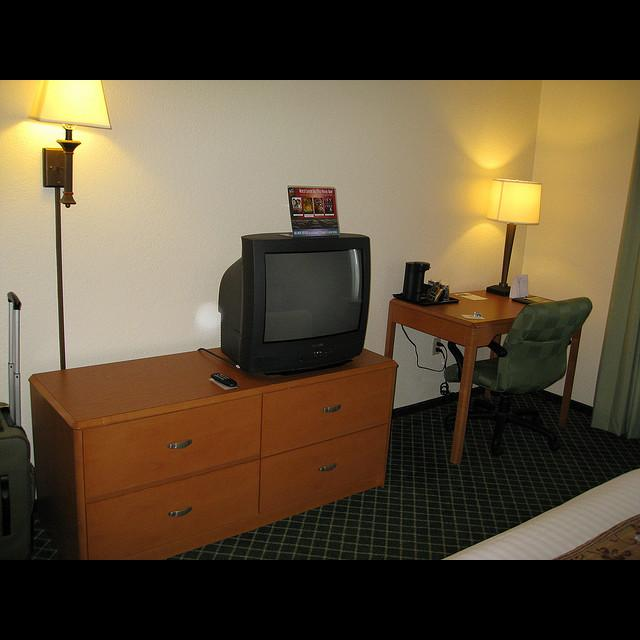Flat-Panel-TV: (216, 230, 374, 378)
TV-Remote-Control: (211, 372, 238, 387)
